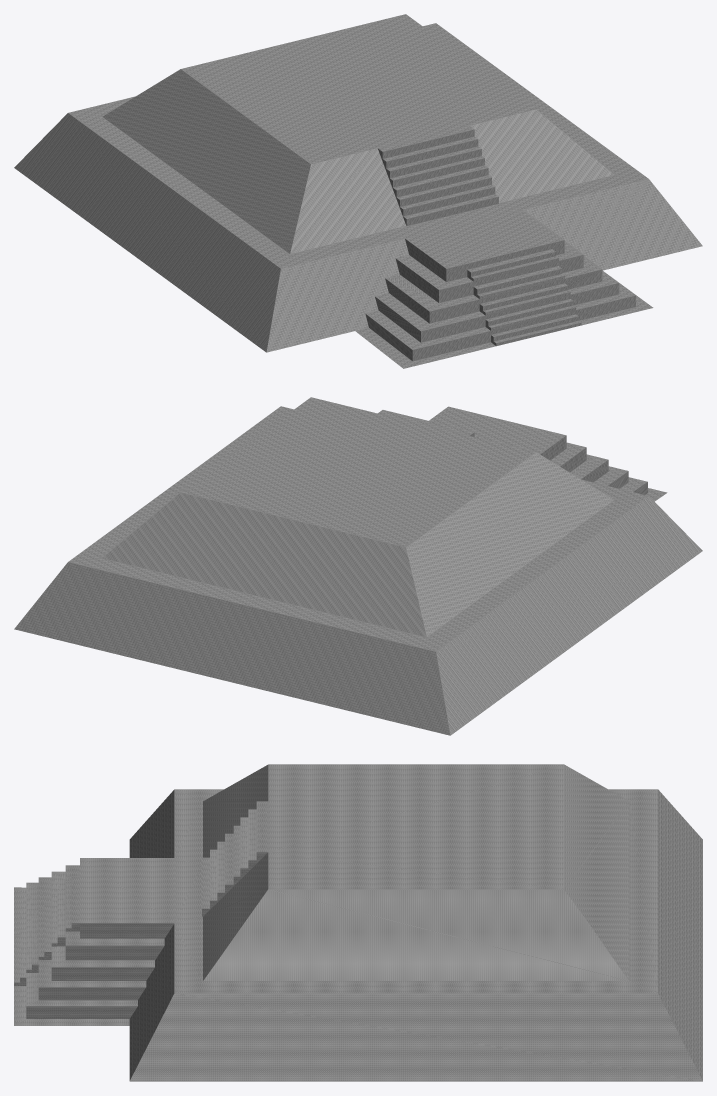
The model's file is Piramide_de_la_lunaMitad.fbx.
The picture shows the model from 3 angles, top to bottom: view 1: azimuth 30°, elevation 25°; view 2: azimuth 150°, elevation 25°; view 3: azimuth 270°, elevation 25°; orthographic projection. The views are drawn at different scales.
Visible parts, largest first — view 1: Model; view 2: Model; view 3: Model.
Boxes of the visible parts, x1,y1,x2,y2 form: Model: (14, 14, 702, 368); Model: (14, 397, 702, 735); Model: (14, 764, 702, 1081).
Bounding box in the file's own units: 6 × 1.55 × 7.22.
